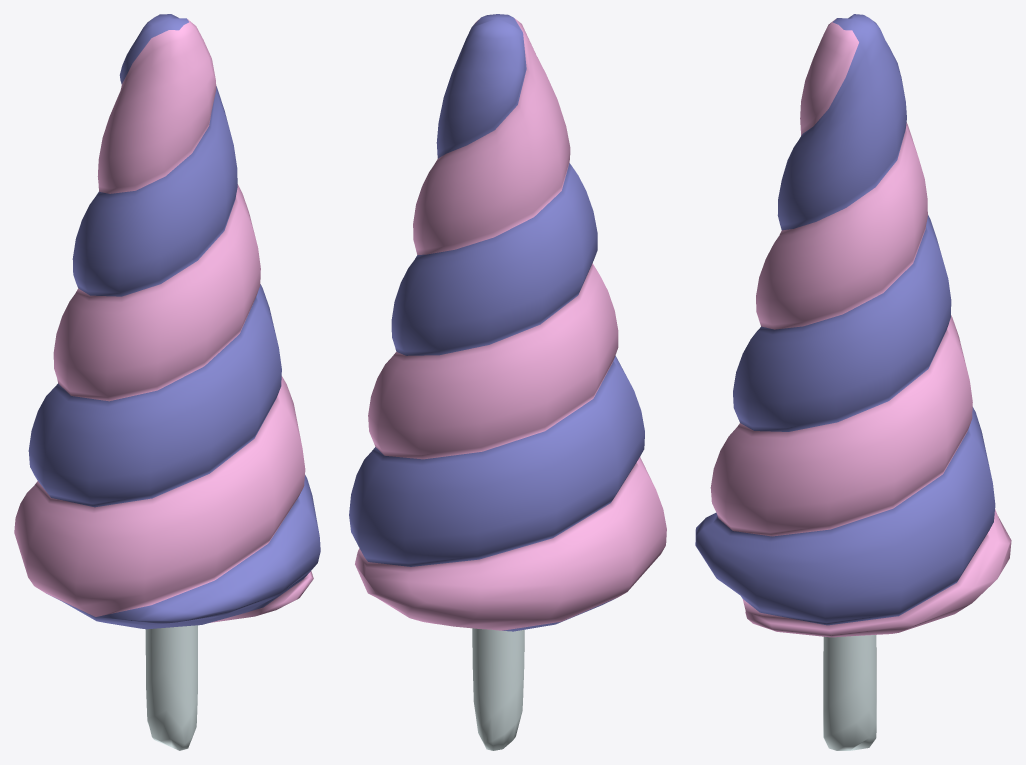
Rendered from Tree_Candy_01.fbx.
3 renders of one model, left to right at view 1: azimuth 30°, elevation 25°; view 2: azimuth 150°, elevation 25°; view 3: azimuth 270°, elevation 25°, orthographic.
Visible parts, largest first — view 1: Tree_Candy_01_LOD0; view 2: Tree_Candy_01_LOD0; view 3: Tree_Candy_01_LOD0.
Part boxes in pixels (x1,y1,x2,y2): Tree_Candy_01_LOD0: (14, 14, 320, 750); Tree_Candy_01_LOD0: (349, 14, 666, 750); Tree_Candy_01_LOD0: (695, 14, 1011, 750).
Size of what is drawn, in the model's own units: 469 by 1210 by 474.
